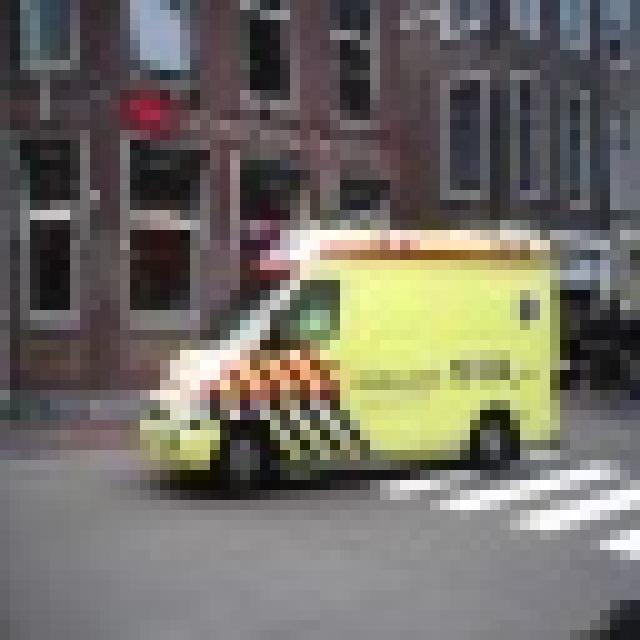Ambulance: (130, 220, 560, 480)
